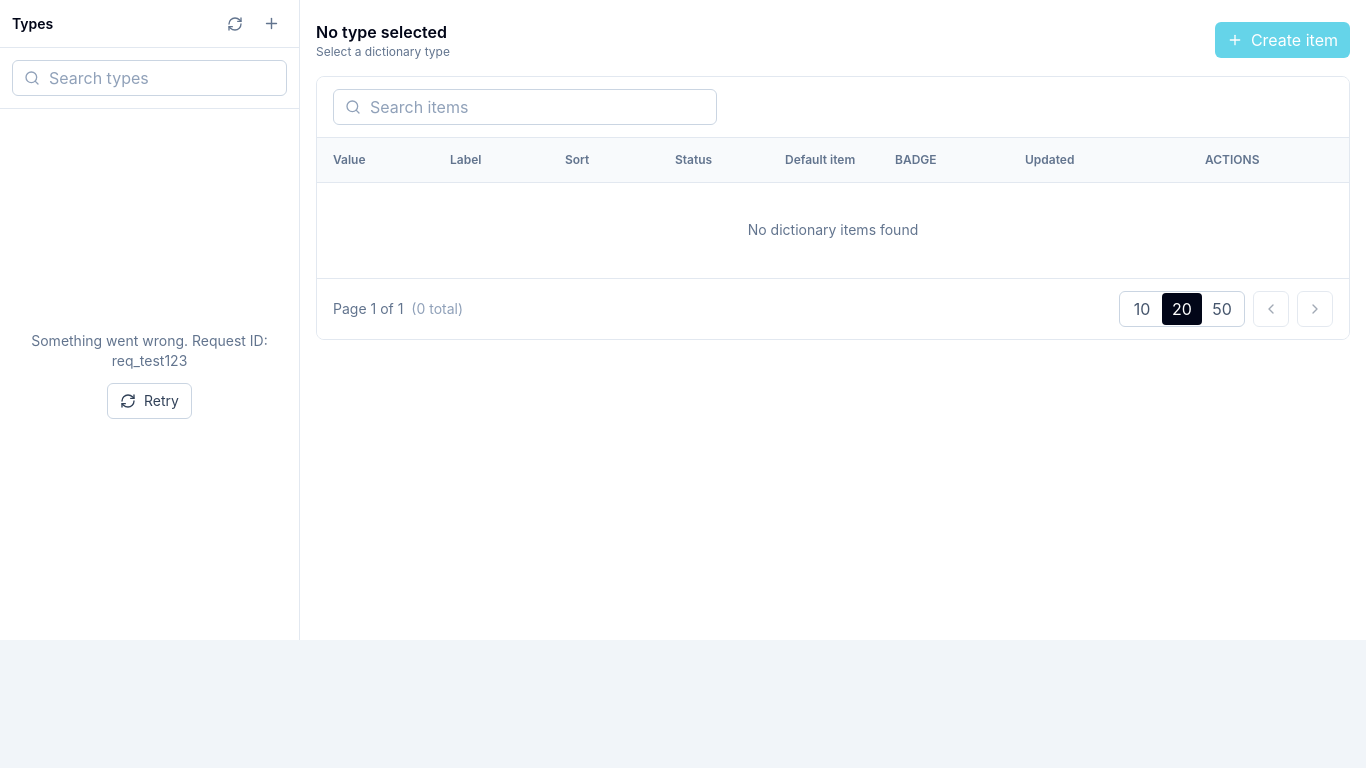
DictionariesPage › renders an error state with retry for dictionary types
The width and height of the screenshot is (1366, 768).
Check: the text "Something went wrong. Request ID: req_test123" is shown, box [16, 330, 283, 370]
Click the button "Retry" at [149, 400], box [107, 382, 192, 418]
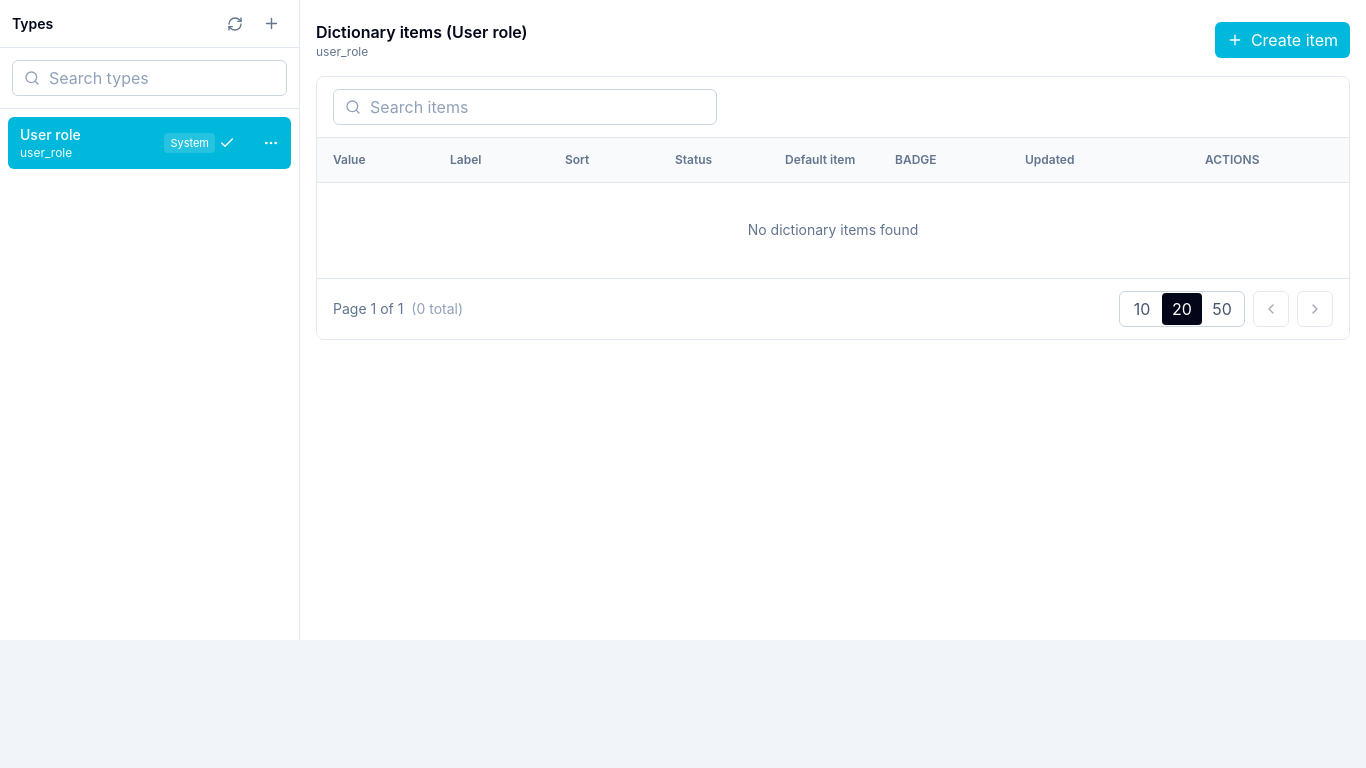
Check: the button with aria-label "Select user_role" is shown, box [8, 117, 247, 169]
